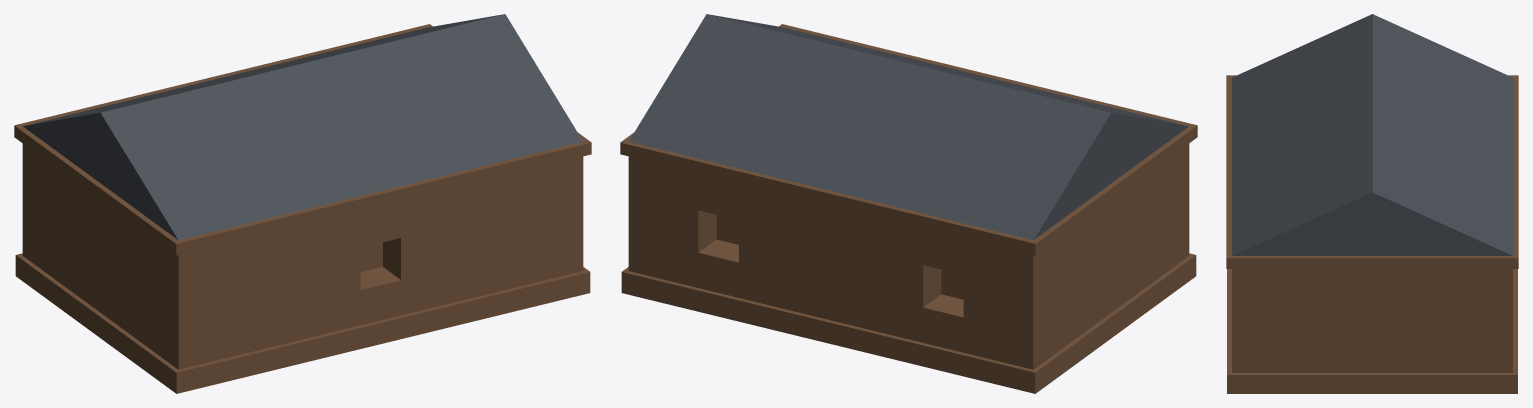
The picture shows the model from 3 angles, left to right: view 1: azimuth 30°, elevation 25°; view 2: azimuth 150°, elevation 25°; view 3: azimuth 270°, elevation 25°; orthographic projection. The views are drawn at different scales.
Parts seen in each view (by area): view 1: roof_slate, body_timber, trim_timber; view 2: roof_slate, body_timber, trim_timber; view 3: roof_slate, body_timber, trim_timber.
Part boxes in pixels (x1=…): roof_slate: x1=23, y1=14, x2=582, y2=240; body_timber: x1=22, y1=143, x2=583, y2=369; trim_timber: x1=14, y1=24, x2=591, y2=393; roof_slate: x1=629, y1=14, x2=1188, y2=240; body_timber: x1=628, y1=143, x2=1189, y2=369; trim_timber: x1=620, y1=24, x2=1197, y2=393; roof_slate: x1=1232, y1=14, x2=1512, y2=255; body_timber: x1=1232, y1=269, x2=1512, y2=372; trim_timber: x1=1226, y1=75, x2=1518, y2=393.
Size of what is drawn, in the model's own units: 9.24 by 4.7 by 6.24.
